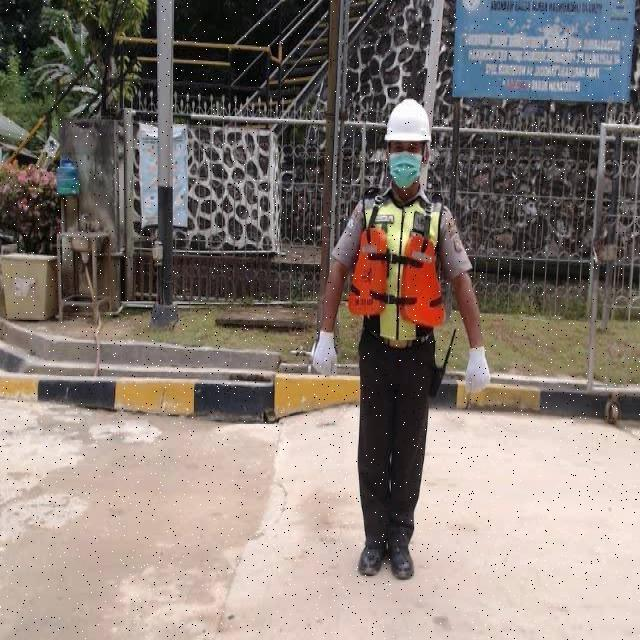Hard_hat: (380, 105, 436, 153)
Vest: (354, 200, 447, 340)
